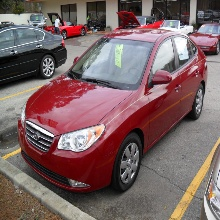no damage: (18, 28, 208, 196), (1, 25, 68, 84)
